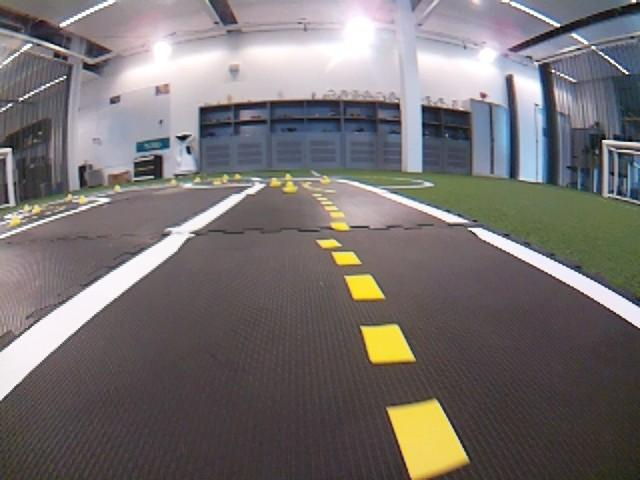Duckies: (282, 182, 299, 194), (8, 216, 22, 227), (270, 178, 282, 187), (78, 196, 87, 204), (320, 176, 329, 184), (31, 206, 41, 213), (114, 184, 121, 192), (212, 179, 221, 185), (285, 174, 293, 180), (222, 174, 228, 181), (66, 194, 72, 200), (23, 205, 30, 210), (234, 174, 241, 179), (170, 180, 177, 185), (194, 178, 201, 182)
